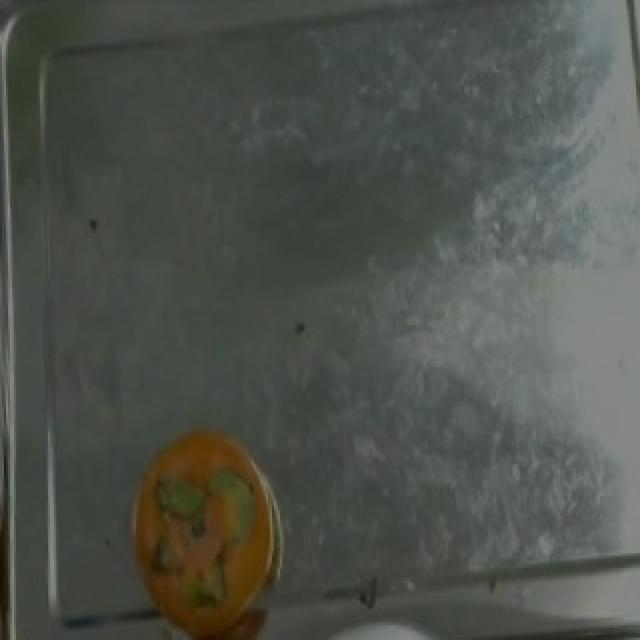Fruit: (122, 416, 284, 640)
